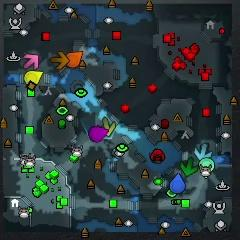p1: (171, 174, 184, 193)
p2: (200, 158, 215, 171)
p3: (89, 126, 108, 142)
p4: (25, 71, 42, 86)
p5: (66, 52, 82, 68)
x1: (25, 54, 39, 70)
x2: (103, 117, 115, 136)
x3: (195, 143, 211, 161)
x4: (182, 156, 196, 176)
x5: (50, 52, 68, 68)
